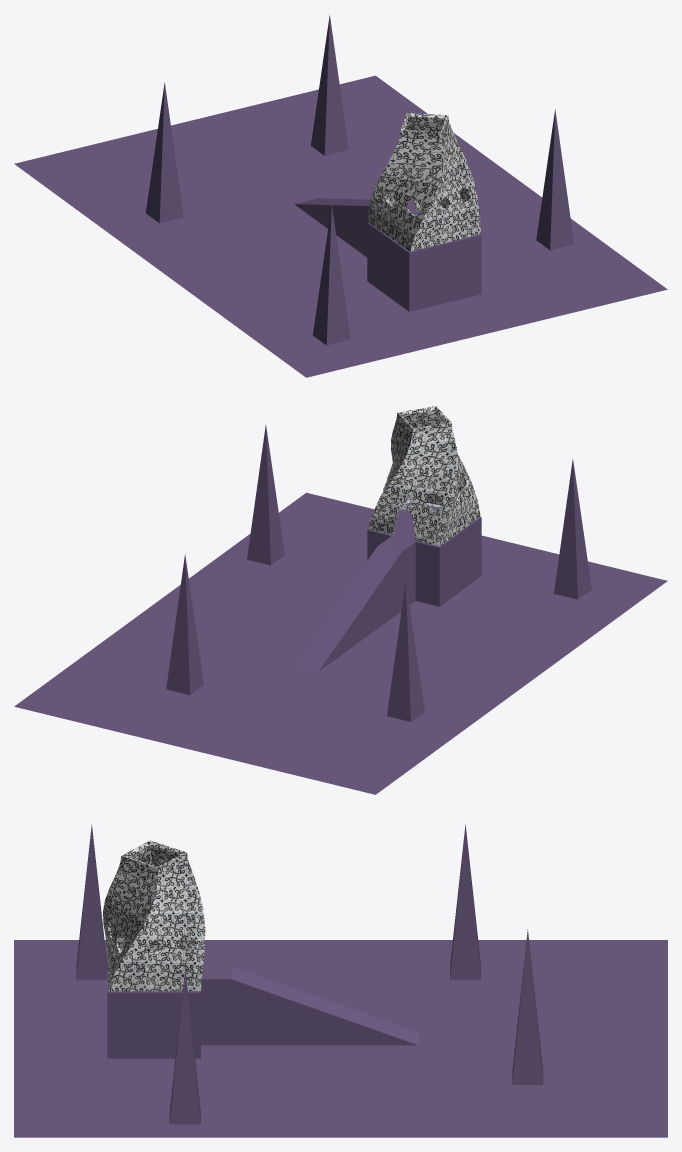
3 views of the same model, one above another, from view 1: azimuth 30°, elevation 25°; view 2: azimuth 150°, elevation 25°; view 3: azimuth 270°, elevation 25° (orthographic). The views are drawn at different scales.
Parts seen in each view (by area): view 1: ground, house; view 2: ground, house; view 3: ground, house.
Part boxes in pixels (bbox=[...]): ground: bbox=[14, 14, 667, 377]; house: bbox=[368, 113, 480, 251]; ground: bbox=[14, 425, 667, 794]; house: bbox=[368, 406, 480, 546]; ground: bbox=[14, 824, 667, 1137]; house: bbox=[103, 840, 205, 991].
Bounding box in the file's own units: 14.29 × 6.23 × 20.
Materials: 4 (1 with a texture image).
